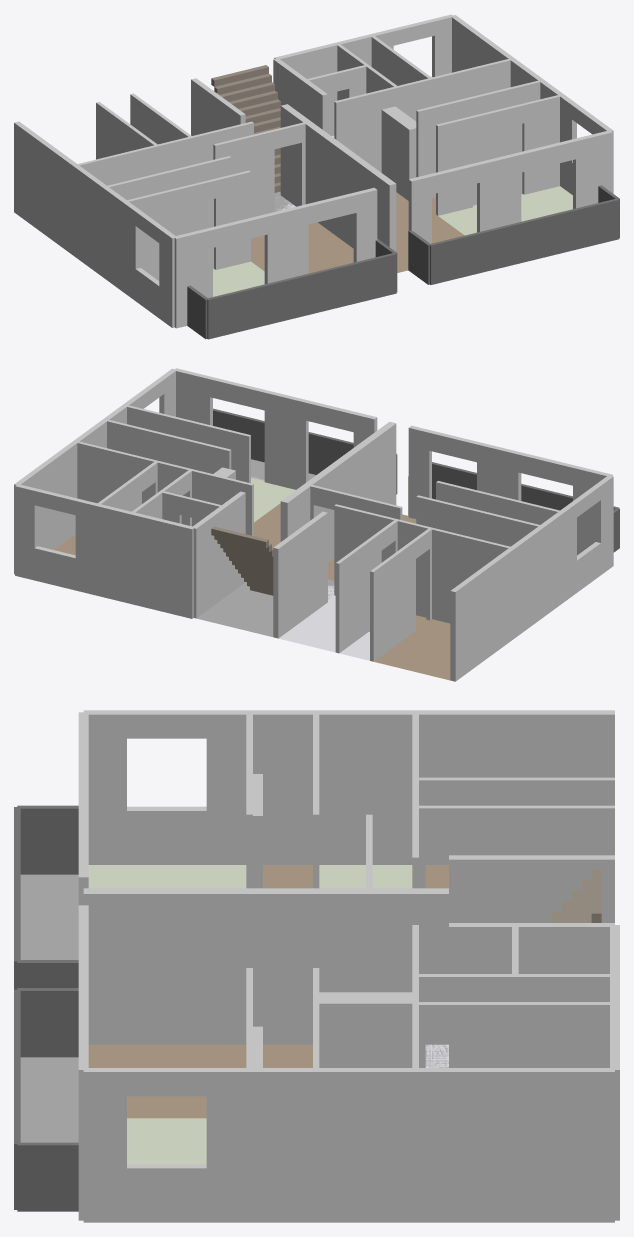
File: floor_plan.glb
The picture shows the model from 3 angles, top to bottom: view 1: azimuth 30°, elevation 25°; view 2: azimuth 150°, elevation 25°; view 3: azimuth 270°, elevation 25°; orthographic projection. The views are drawn at different scales.
Parts seen in each view (by area): view 1: Main_Walls, Handrail_R_S, Handrail_L_S, Stairs, Floor_L_DK, Floor_R_Japanese_Lower, Floor_R_DK, Floor_L_Japanese_Lower, Handrail_R_W, Handrail_L_W; view 2: Main_Walls, Floor_L_Western, Handrail_R_S, Stairs, Floor_Stairs_Room, Handrail_L_S, Floor_L_Bathroom, Floor_R_Japanese_Lower, Floor_R_DK, Floor_L_WC; view 3: Main_Walls, Floor_R_DK, Floor_R_Balcony, Floor_L_Balcony, Handrail_R_E, Handrail_R_W, Handrail_L_W, Floor_L_Japanese_Lower, Floor_R_Japanese_Lower, Floor_L_Japanese_Upper, Handrail_L_E, Stairs (+3 smaller).
Boxes of the visible parts, x1,y1,x2,y2 form: Main_Walls: (14,14,613,328); Handrail_R_S: (429,198,619,284); Handrail_L_S: (207,253,396,339); Stairs: (211,65,280,192); Floor_L_DK: (251,222,353,273); Floor_R_Japanese_Lower: (438,186,572,235); Floor_R_DK: (396,192,464,272); Floor_L_Japanese_Lower: (213,261,264,296); Handrail_R_W: (408,230,430,284); Handrail_L_W: (187,285,208,339); Main_Walls: (14,368,613,681); Floor_L_Western: (374,619,450,680); Handrail_R_S: (213,408,396,474); Stairs: (211,526,273,595); Floor_Stairs_Room: (196,582,273,636); Handrail_L_S: (432,462,619,510); Floor_L_Bathroom: (279,617,335,652); Floor_R_Japanese_Lower: (251,477,295,522); Floor_R_DK: (254,503,280,547); Floor_L_WC: (339,632,369,660); Main_Walls: (78,710,619,1222); Floor_R_DK: (88,1044,312,1118); Floor_R_Balcony: (20,1057,78,1142); Floor_L_Balcony: (20,874,78,959); Handrail_R_E: (17,1142,78,1211); Handrail_R_W: (17,988,78,1057); Handrail_L_W: (17,805,78,874); Floor_L_Japanese_Lower: (88,865,246,888); Floor_R_Japanese_Lower: (127,1118,206,1164); Floor_L_Japanese_Upper: (319,865,412,888); Handrail_L_E: (17,960,78,987); Stairs: (542,868,601,922).
Size of the model in its own units: 12.89 by 2.5 by 9.12.
